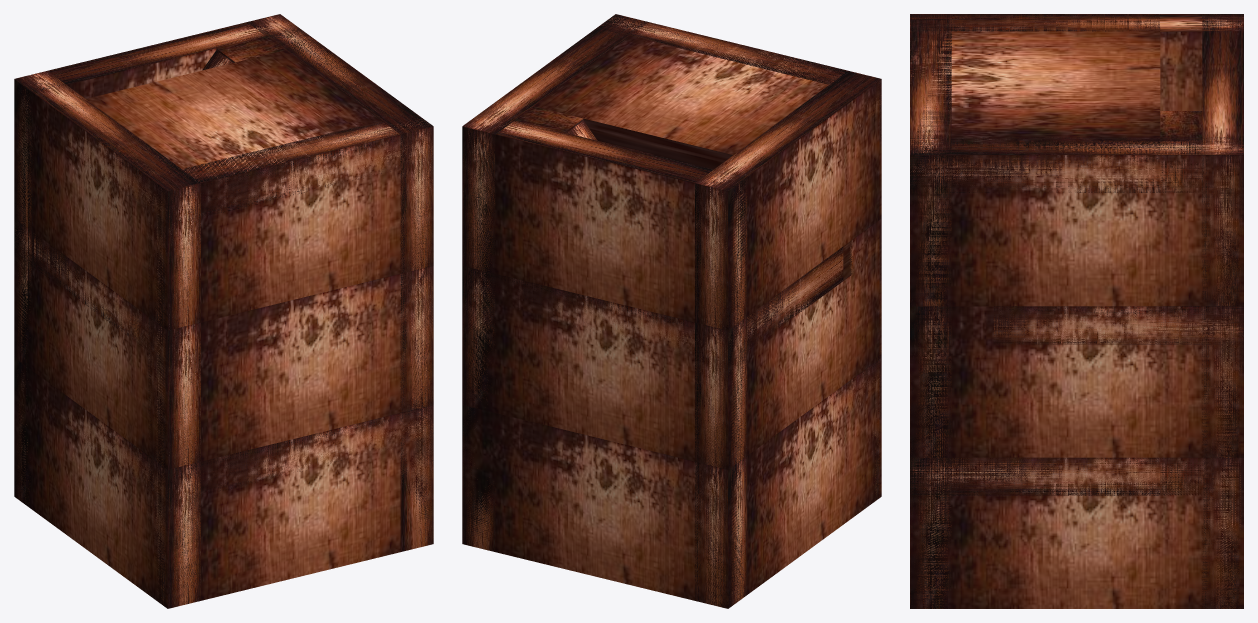
The model's file is Demo_Building.fbx.
3 renders of one model, left to right at view 1: azimuth 30°, elevation 25°; view 2: azimuth 150°, elevation 25°; view 3: azimuth 270°, elevation 25°, orthographic. The views are drawn at different scales.
Visible parts, largest first — view 1: cuboid_13, cuboid_3, cuboid_7, cuboid_10, cuboid_14, cuboid, cuboid_6, cuboid_11, cuboid_12, cuboid_5, cuboid_1, cuboid_4 (+2 smaller); view 2: cuboid_12, cuboid_2, cuboid_8, cuboid_10, cuboid_14, cuboid, cuboid_6, cuboid_11, cuboid_9, cuboid_13, cuboid_5, cuboid_1; view 3: cuboid_11, cuboid_5, cuboid_1, cuboid_14, cuboid_4, cuboid_12, cuboid_10, cuboid_13, cuboid_9, cuboid_8, cuboid_2, cuboid_7 (+1 smaller).
Boxes of the visible parts, x1=… form: cuboid_13: x1=149, y1=113, x2=433, y2=330; cuboid_3: x1=148, y1=405, x2=433, y2=607; cuboid_7: x1=148, y1=266, x2=433, y2=468; cuboid_10: x1=14, y1=71, x2=200, y2=329; cuboid_14: x1=53, y1=28, x2=433, y2=225; cuboid: x1=14, y1=358, x2=200, y2=608; cuboid_6: x1=14, y1=218, x2=200, y2=469; cuboid_11: x1=247, y1=14, x2=433, y2=273; cuboid_12: x1=14, y1=14, x2=297, y2=231; cuboid_5: x1=400, y1=266, x2=433, y2=412; cuboid_1: x1=400, y1=405, x2=433, y2=551; cuboid_4: x1=58, y1=407, x2=433, y2=496; cuboid_12: x1=462, y1=113, x2=747, y2=330; cuboid_2: x1=462, y1=405, x2=747, y2=608; cuboid_8: x1=462, y1=266, x2=747, y2=469; cuboid_10: x1=695, y1=71, x2=881, y2=330; cuboid_14: x1=482, y1=15, x2=881, y2=174; cuboid: x1=695, y1=358, x2=881, y2=608; cuboid_6: x1=695, y1=218, x2=881, y2=469; cuboid_11: x1=462, y1=14, x2=648, y2=272; cuboid_9: x1=462, y1=240, x2=853, y2=361; cuboid_13: x1=597, y1=14, x2=881, y2=192; cuboid_5: x1=462, y1=266, x2=495, y2=406; cuboid_1: x1=462, y1=405, x2=495, y2=551; cuboid_11: x1=910, y1=137, x2=1243, y2=306; cuboid_5: x1=910, y1=306, x2=1243, y2=457; cuboid_1: x1=910, y1=457, x2=1243, y2=608; cuboid_14: x1=910, y1=14, x2=1202, y2=192; cuboid_4: x1=910, y1=457, x2=1202, y2=495; cuboid_12: x1=1202, y1=14, x2=1243, y2=305; cuboid_10: x1=910, y1=14, x2=1243, y2=110; cuboid_13: x1=910, y1=14, x2=951, y2=306; cuboid_9: x1=993, y1=306, x2=1243, y2=344; cuboid_8: x1=1202, y1=306, x2=1243, y2=457; cuboid_2: x1=1202, y1=457, x2=1243, y2=608; cuboid_7: x1=910, y1=306, x2=951, y2=457.
Bounding box in the file's own units: 100 × 150 × 100.
Materials: 1 (1 with a texture image).
